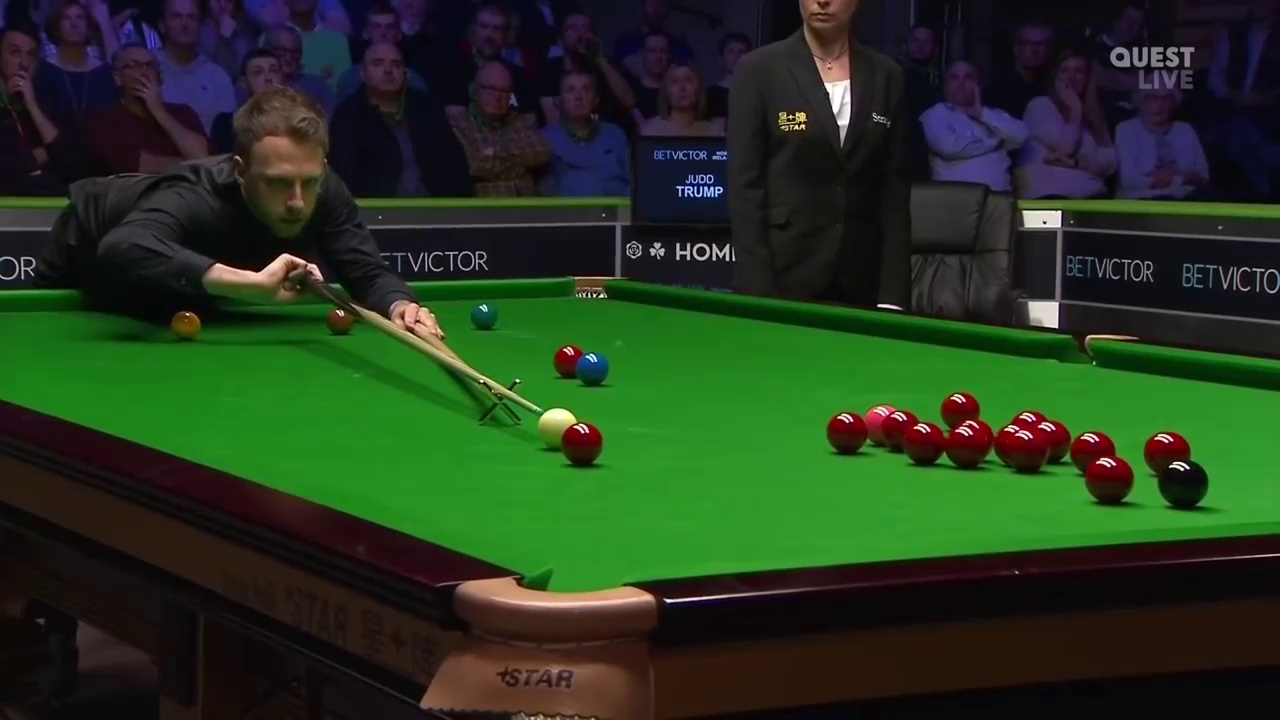black: (1158, 461, 1208, 508)
blue: (575, 355, 606, 384)
brown: (331, 307, 353, 331)
green: (470, 306, 498, 331)
red: (1086, 456, 1133, 508), (558, 422, 605, 463), (1006, 428, 1051, 469), (827, 411, 866, 455), (902, 425, 947, 463), (946, 427, 990, 464)
yellow: (173, 309, 204, 339)
